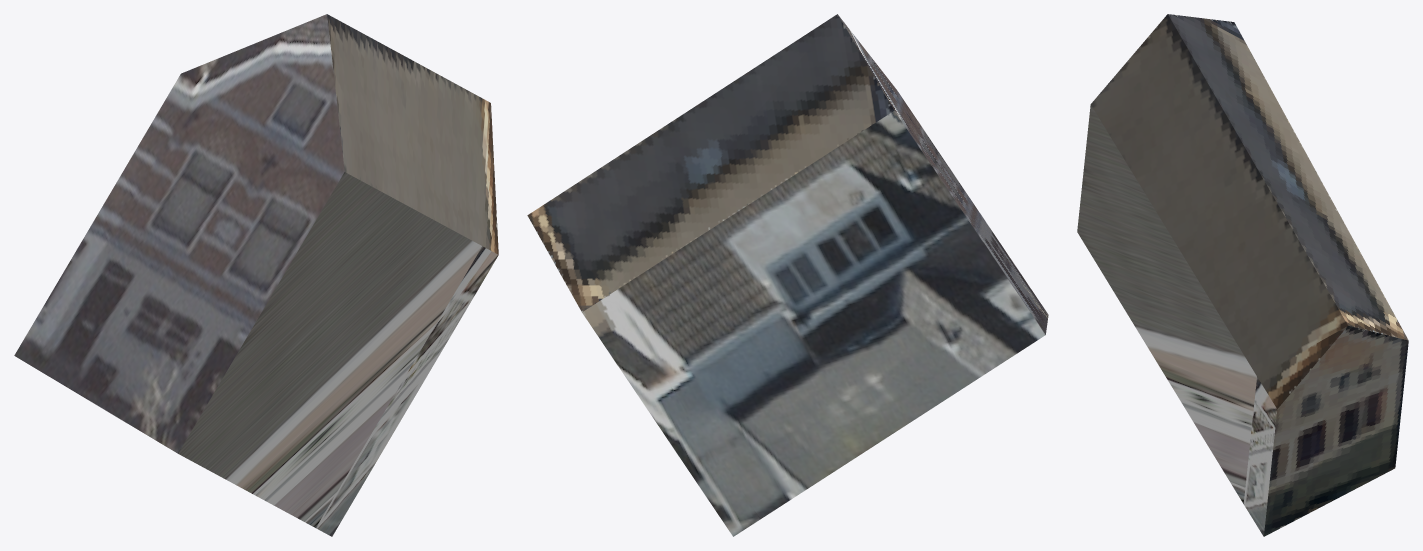
3 views of the same model, side by side, from view 1: azimuth 30°, elevation 25°; view 2: azimuth 150°, elevation 25°; view 3: azimuth 270°, elevation 25° (orthographic). The views are drawn at different scales.
Visible parts, largest first — view 1: BAG_0599100000760367 (×2); view 2: BAG_0599100000760367 (×4); view 3: BAG_0599100000760367 (×4).
Part boxes in pixels (bbox=[...]): BAG_0599100000760367 (×2): bbox=[14, 14, 498, 536]; BAG_0599100000760367 (×4): bbox=[527, 14, 1048, 536]; BAG_0599100000760367 (×4): bbox=[1077, 14, 1408, 536].
Size of the model in its own units: 14.7 by 14.76 by 8.92.
Materials: 1 (1 with a texture image).
